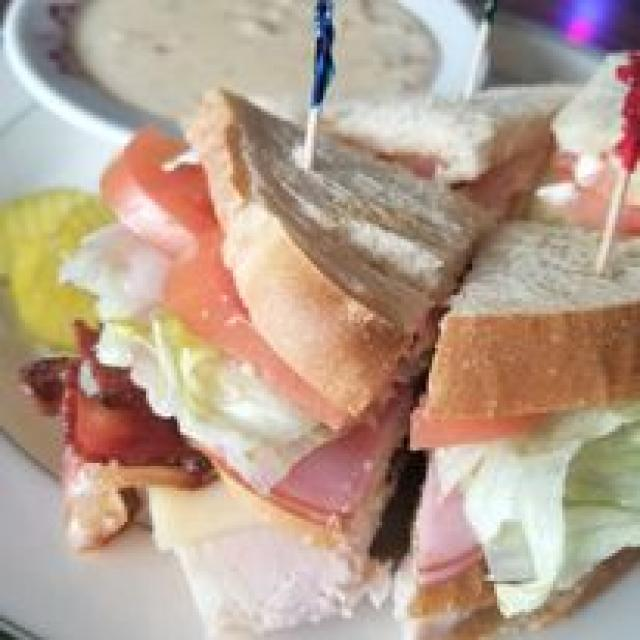Sandwich: (59, 71, 637, 637)
